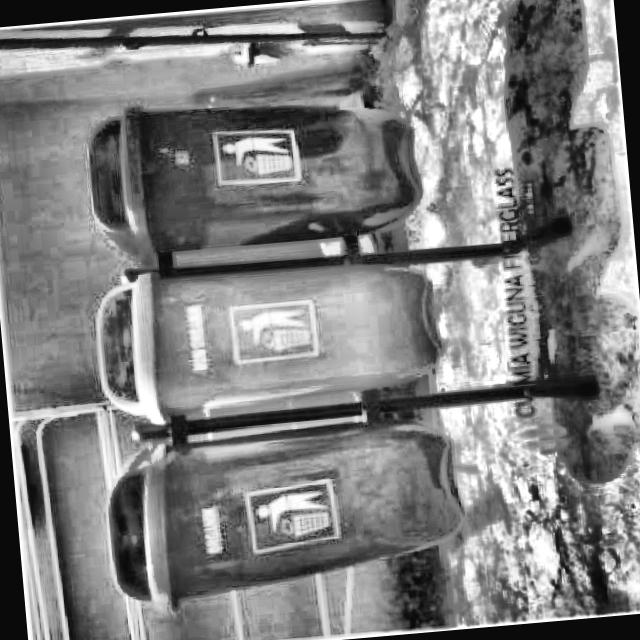Dustbin: (91, 406, 488, 624), (64, 70, 447, 274), (78, 238, 454, 438)
